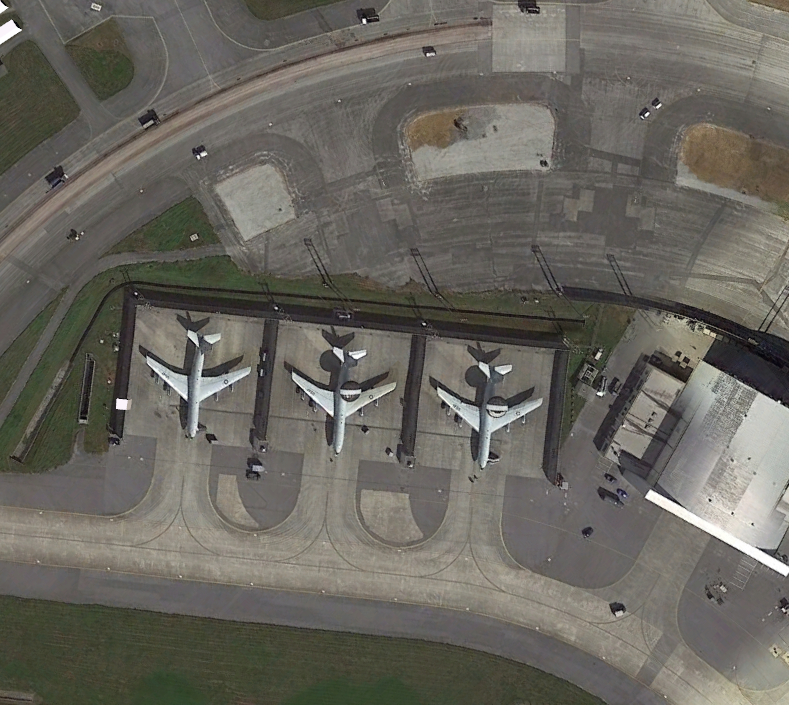A11: (144, 320, 254, 445)
A7: (289, 333, 399, 458), (434, 350, 544, 475)
